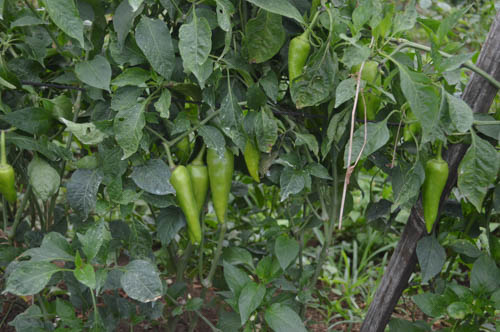ChiliPepper: (170, 168, 200, 240), (421, 160, 450, 234), (206, 147, 233, 223), (182, 164, 206, 244), (354, 63, 382, 120), (288, 38, 308, 106), (242, 132, 259, 183), (2, 167, 19, 204)
